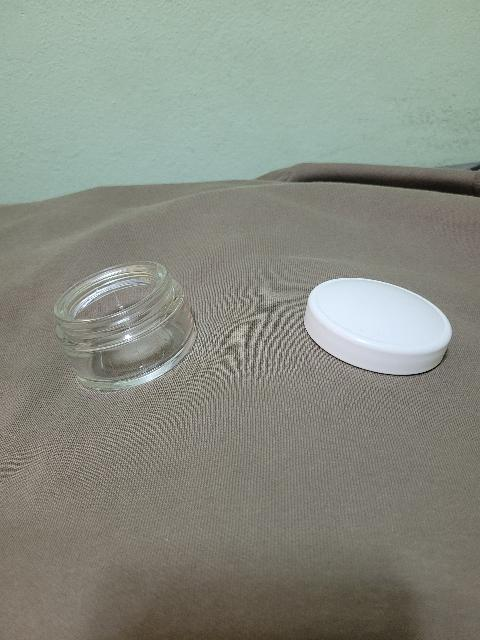Cam: (53, 259, 205, 392)
Plastik: (298, 275, 456, 378)
